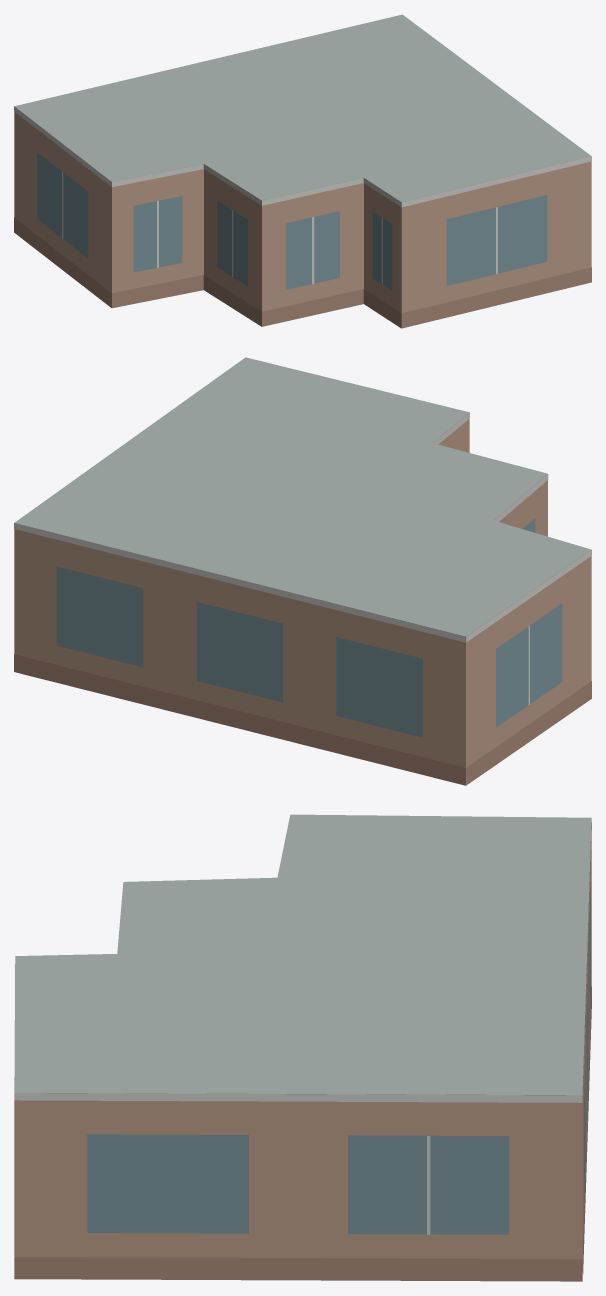
The model's file is survey-upis-32634419.glb.
3 views of the same model, one above another, from view 1: azimuth 30°, elevation 25°; view 2: azimuth 150°, elevation 25°; view 3: azimuth 270°, elevation 25° (orthographic). The views are drawn at different scales.
Visible parts, largest first — view 1: survey-upis-32634419.tmp; view 2: survey-upis-32634419.tmp; view 3: survey-upis-32634419.tmp.
Part boxes in pixels (bbox=[...]): survey-upis-32634419.tmp: bbox=[14, 14, 591, 328]; survey-upis-32634419.tmp: bbox=[14, 357, 591, 785]; survey-upis-32634419.tmp: bbox=[14, 814, 591, 1281].
Bounding box in the file's own units: 9.87 × 3.05 × 8.58.
